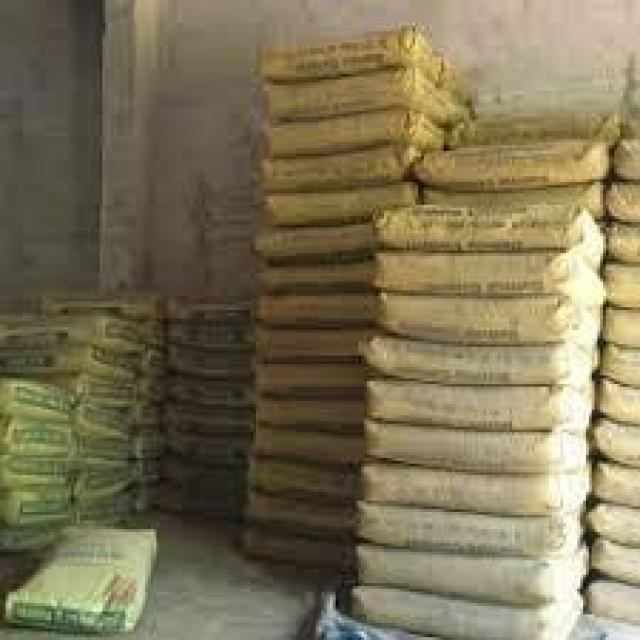gunny_bag: (261, 28, 477, 99), (8, 532, 157, 632), (348, 547, 572, 612), (259, 67, 474, 124), (356, 510, 577, 562), (371, 420, 571, 475), (376, 249, 582, 300), (378, 199, 587, 249), (360, 467, 564, 517), (358, 590, 558, 640), (269, 109, 448, 162), (378, 294, 571, 343), (366, 387, 574, 432), (375, 336, 572, 381), (427, 139, 602, 186), (276, 181, 415, 226), (3, 311, 147, 348), (249, 458, 355, 504), (249, 429, 362, 470), (10, 346, 139, 380), (248, 497, 350, 539), (245, 528, 347, 570), (257, 222, 375, 258), (256, 325, 365, 362), (258, 362, 362, 400), (260, 260, 370, 295), (261, 291, 367, 327), (256, 399, 362, 433), (166, 378, 250, 411), (171, 348, 253, 380), (7, 417, 73, 456), (11, 377, 72, 419), (162, 462, 244, 492), (168, 404, 252, 433), (166, 435, 249, 464), (13, 486, 74, 523), (168, 322, 252, 348), (79, 402, 132, 438), (175, 295, 251, 320), (5, 457, 70, 486), (79, 437, 131, 470)
